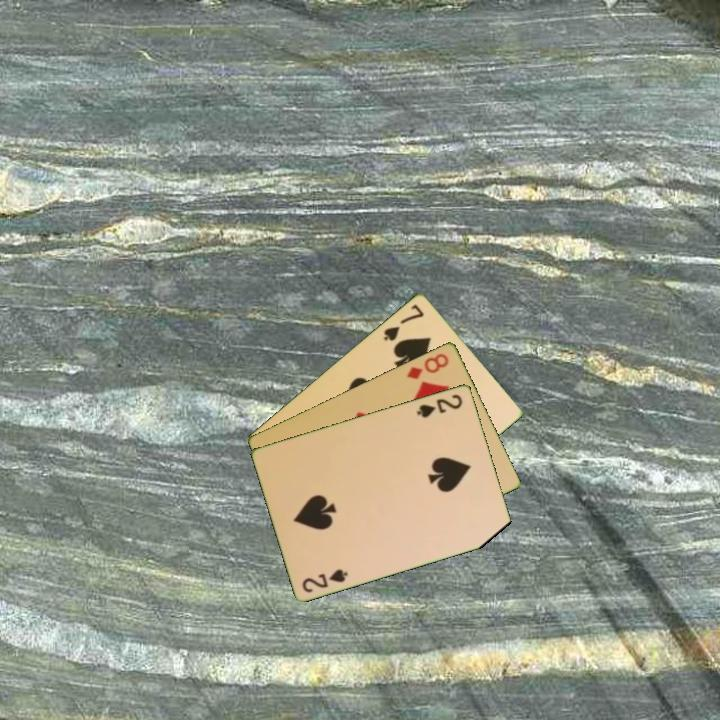2s: (414, 390, 466, 420), (299, 565, 351, 595)
7s: (380, 300, 427, 343)
8d: (403, 349, 452, 382)
